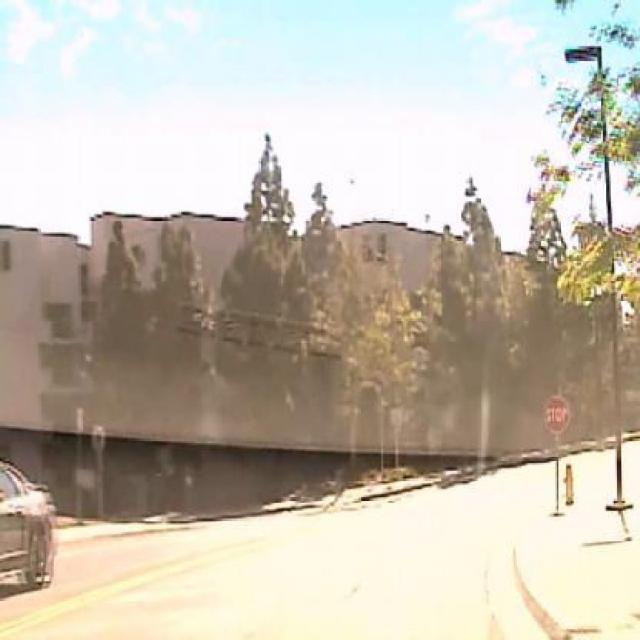Stop: (542, 396, 573, 435)
